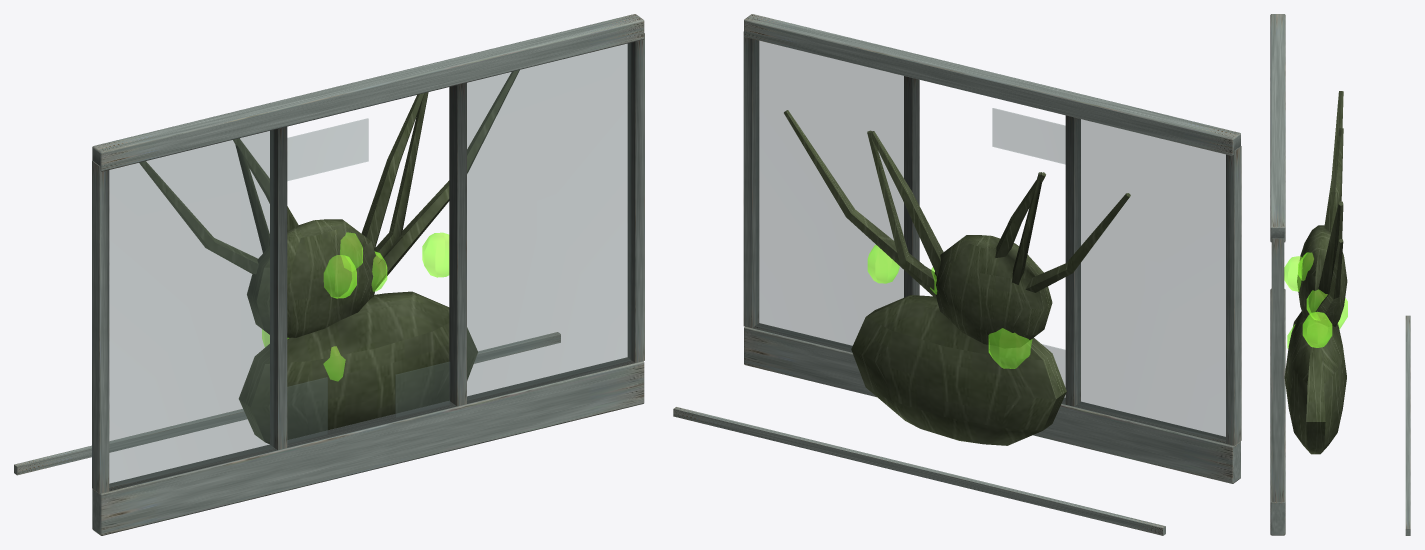
Rendered from research_room.glb.
3 renders of one model, left to right at view 1: azimuth 30°, elevation 25°; view 2: azimuth 150°, elevation 25°; view 3: azimuth 270°, elevation 25°, orthographic. The views are drawn at different scales.
Visible parts, largest first — view 1: ResearchRoom; view 2: ResearchRoom; view 3: ResearchRoom.
Part boxes in pixels (x1,y1,x2,y2): ResearchRoom: [14, 14, 644, 535]; ResearchRoom: [673, 14, 1241, 535]; ResearchRoom: [1270, 14, 1410, 535].
Bounding box in the file's own units: 4.01 × 2.75 × 1.11.
Materials: 3 (1 with a texture image).
